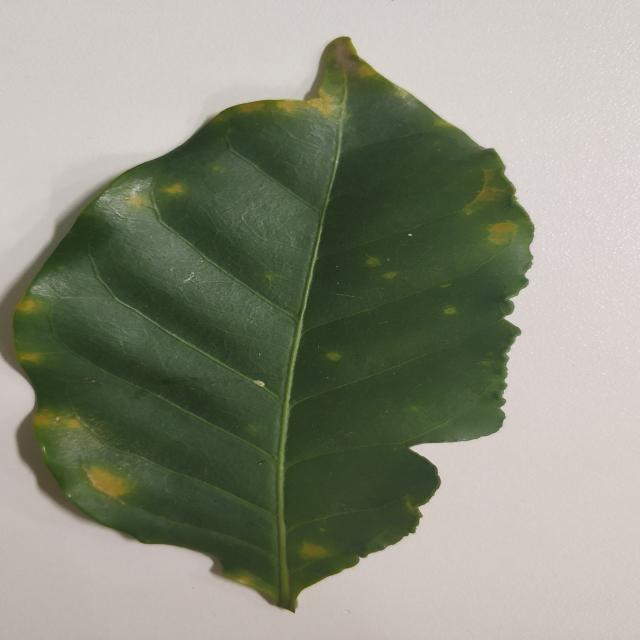Enfermedad-Roya: (11, 37, 534, 614)
